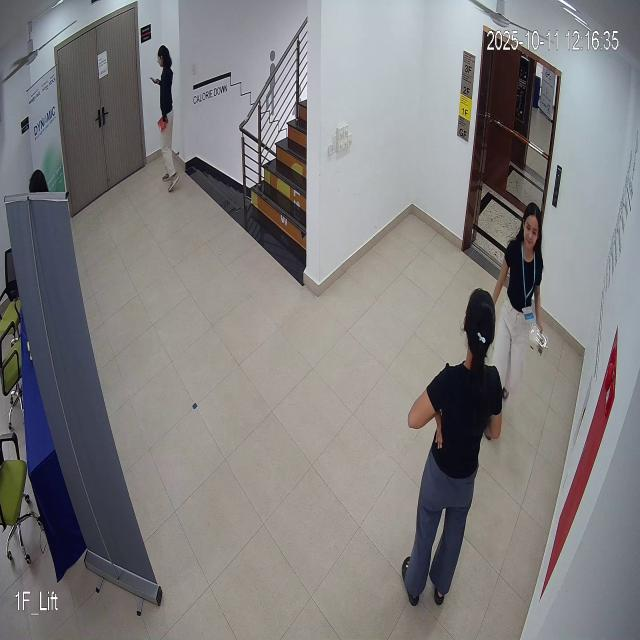face: (517, 200, 547, 266)
